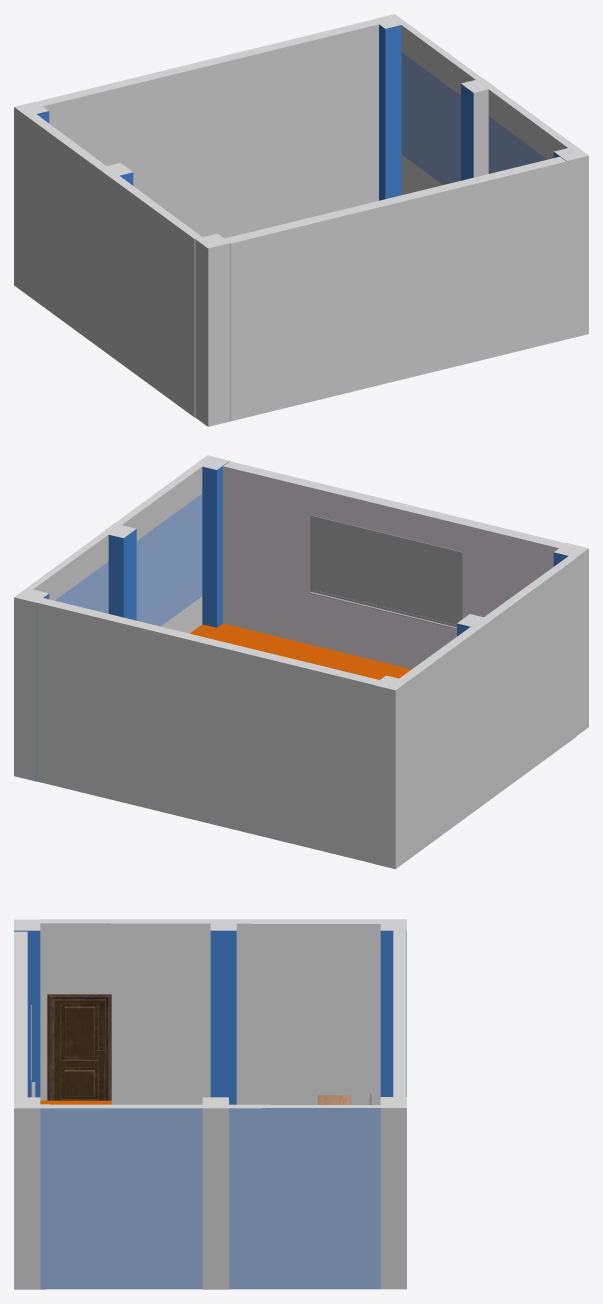
The model's file is Salonggchido.glb.
The picture shows the model from 3 angles, top to bottom: view 1: azimuth 30°, elevation 25°; view 2: azimuth 150°, elevation 25°; view 3: azimuth 270°, elevation 25°; orthographic projection.
Parts seen in each view (by area): view 1: imagetostl_mesh51, imagetostl_mesh69, Pared, imagetostl_mesh46, imagetostl_mesh4, imagetostl_mesh16, imagetostl_mesh62, imagetostl_mesh22, imagetostl_mesh3, imagetostl_mesh49, imagetostl_mesh64, columna1 (+6 smaller); view 2: imagetostl_mesh67, imagetostl_mesh53, Pared, boardFace, imagetostl_mesh46, imagetostl_mesh19, imagetostl_mesh7, Escalon, imagetostl_mesh62, columna1, imagetostl_mesh49, imagetostl_mesh13 (+9 smaller); view 3: imagetostl_mesh61, imagetostl_mesh41, Object_2, imagetostl_mesh17, imagetostl_mesh29, imagetostl_mesh23, imagetostl_mesh35, imagetostl_mesh11, imagetostl_mesh49, imagetostl_mesh64, imagetostl_mesh5, Object_3 (+2 smaller).
Part boxes in pixels (x1,y1,x2,y2): imagetostl_mesh51: [231, 161, 566, 421]; imagetostl_mesh69: [43, 24, 378, 238]; Pared: [27, 116, 194, 417]; imagetostl_mesh46: [401, 52, 546, 184]; imagetostl_mesh4: [208, 243, 230, 426]; imagetostl_mesh16: [566, 155, 588, 339]; imagetostl_mesh62: [401, 25, 567, 159]; imagetostl_mesh22: [385, 25, 401, 198]; imagetostl_mesh3: [195, 239, 208, 426]; imagetostl_mesh49: [224, 156, 565, 243]; imagetostl_mesh64: [37, 19, 378, 106]; columna1: [14, 107, 26, 294]; imagetostl_mesh67: [36, 603, 373, 863]; imagetostl_mesh53: [223, 466, 558, 669]; Pared: [408, 558, 576, 859]; boardFace: [313, 519, 459, 624]; imagetostl_mesh46: [55, 494, 202, 626]; imagetostl_mesh19: [14, 597, 36, 781]; imagetostl_mesh7: [373, 685, 395, 869]; Escalon: [190, 623, 411, 679]; imagetostl_mesh62: [33, 467, 202, 600]; columna1: [395, 681, 408, 868]; imagetostl_mesh49: [223, 461, 565, 547]; imagetostl_mesh13: [202, 466, 216, 627]; imagetostl_mesh61: [40, 1108, 380, 1289]; imagetostl_mesh41: [40, 923, 380, 1104]; Object_2: [54, 1000, 104, 1100]; imagetostl_mesh17: [14, 1108, 40, 1289]; imagetostl_mesh29: [202, 1108, 228, 1289]; imagetostl_mesh23: [380, 1108, 406, 1289]; imagetostl_mesh35: [210, 930, 236, 1104]; imagetostl_mesh11: [380, 930, 406, 1096]; imagetostl_mesh49: [14, 931, 27, 1097]; imagetostl_mesh64: [393, 930, 406, 1096]; imagetostl_mesh5: [14, 930, 40, 1097]; Object_3: [47, 994, 111, 1100].
Bounding box in the file's own units: 269 × 127 × 345.
76 materials, 3 textured.
